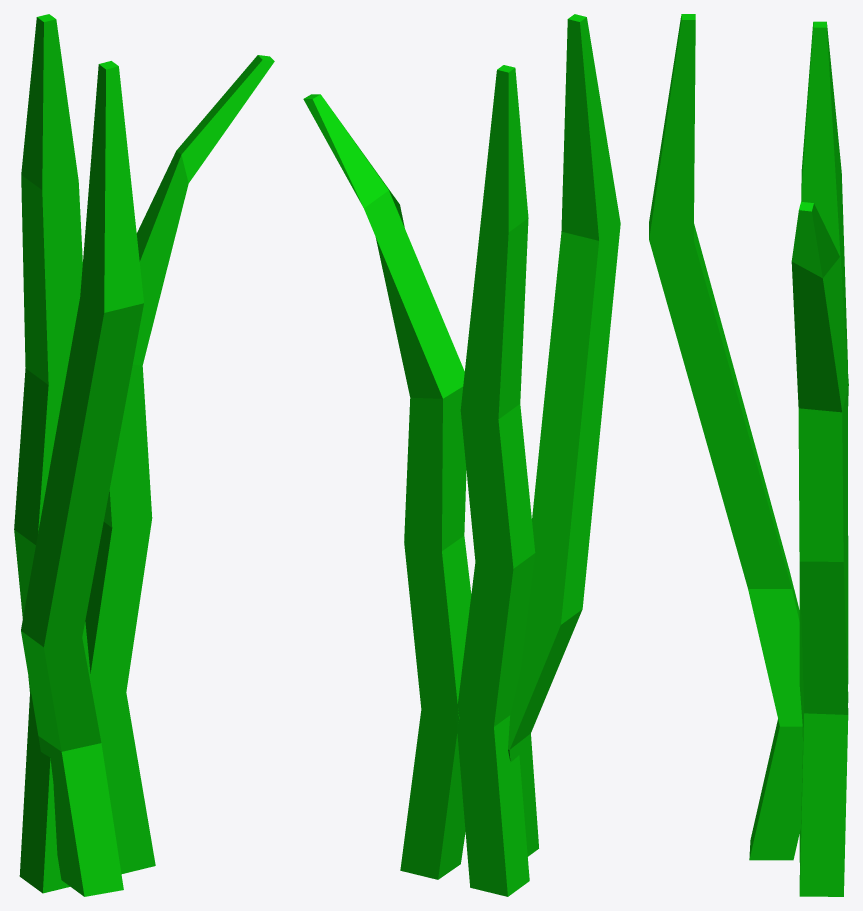
The model's file is grass_1b.fbx.
The picture shows the model from 3 angles, left to right: view 1: azimuth 30°, elevation 25°; view 2: azimuth 150°, elevation 25°; view 3: azimuth 270°, elevation 25°; orthographic projection. The views are drawn at different scales.
Parts seen in each view (by area): view 1: grass_1b; view 2: grass_1b; view 3: grass_1b.
Boxes of the visible parts, x1=… form: grass_1b: x1=14, y1=14, x2=274, y2=896; grass_1b: x1=303, y1=14, x2=620, y2=896; grass_1b: x1=649, y1=14, x2=848, y2=896.
Size of the model in its own units: 20.7 by 65.88 by 14.36.
